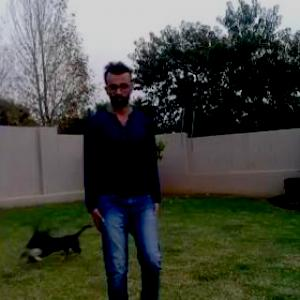follow: (85, 64, 160, 299)
